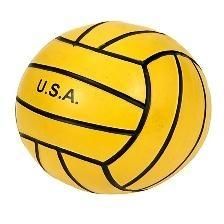Sports-Ball: (14, 20, 213, 200)
